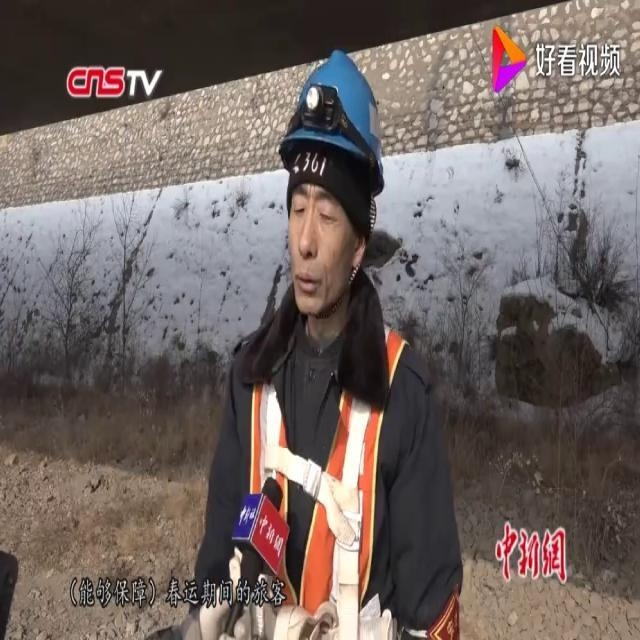Arnes_seguridad: (243, 297, 399, 639)
